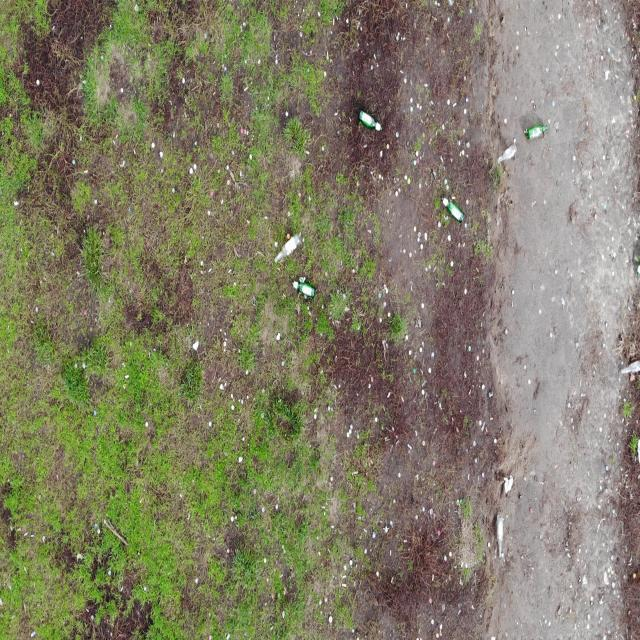rubbish: (274, 230, 303, 262), (438, 196, 465, 223), (359, 107, 383, 132), (291, 281, 317, 300), (522, 125, 548, 144), (494, 513, 504, 562), (497, 142, 519, 164), (619, 360, 640, 373), (503, 475, 514, 495)
